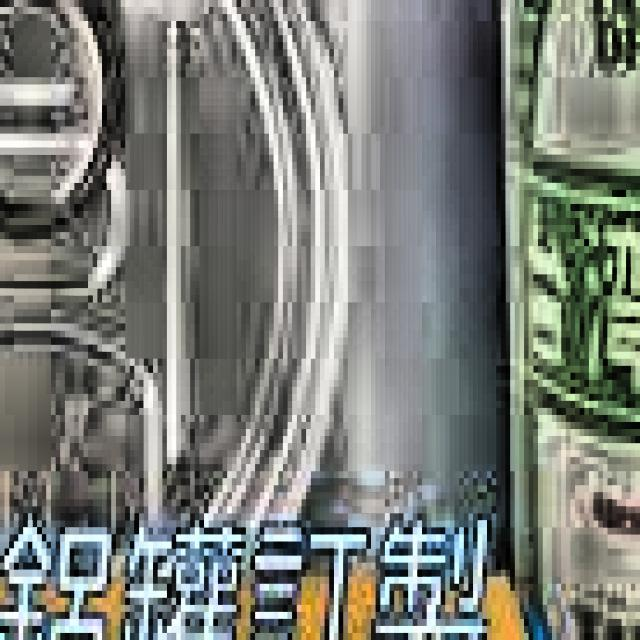metal: (0, 0, 362, 584), (482, 0, 640, 640)
